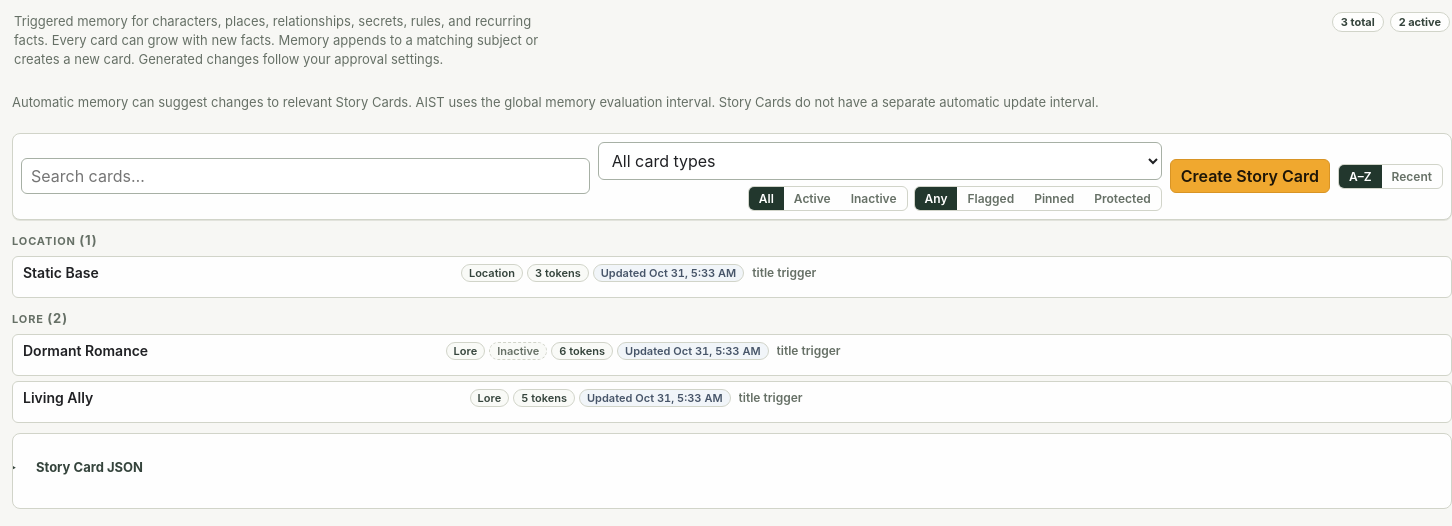
Test: side menu page smoke coverage › combines Story Card type, search, active status and living mode filters
Select "Lore" in the dropdown named "Filter by card type" at (880, 160), box left=598, top=142, right=1162, bottom=180
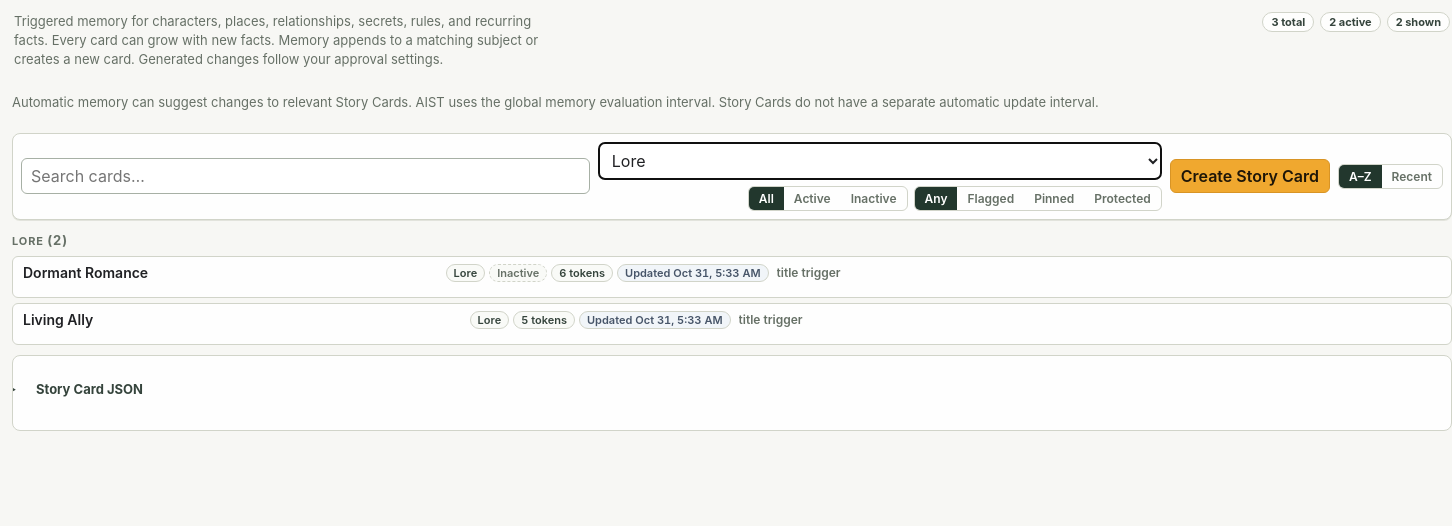
Expected: the number of elements with class "story-card-editor-item" is 2, left=12, top=256, right=1451, bottom=298; left=12, top=302, right=1451, bottom=344
Expected: the text "2 shown" is shown, left=1387, top=12, right=1450, bottom=32
Click the button "Active" at (812, 198), box left=784, top=186, right=841, bottom=210
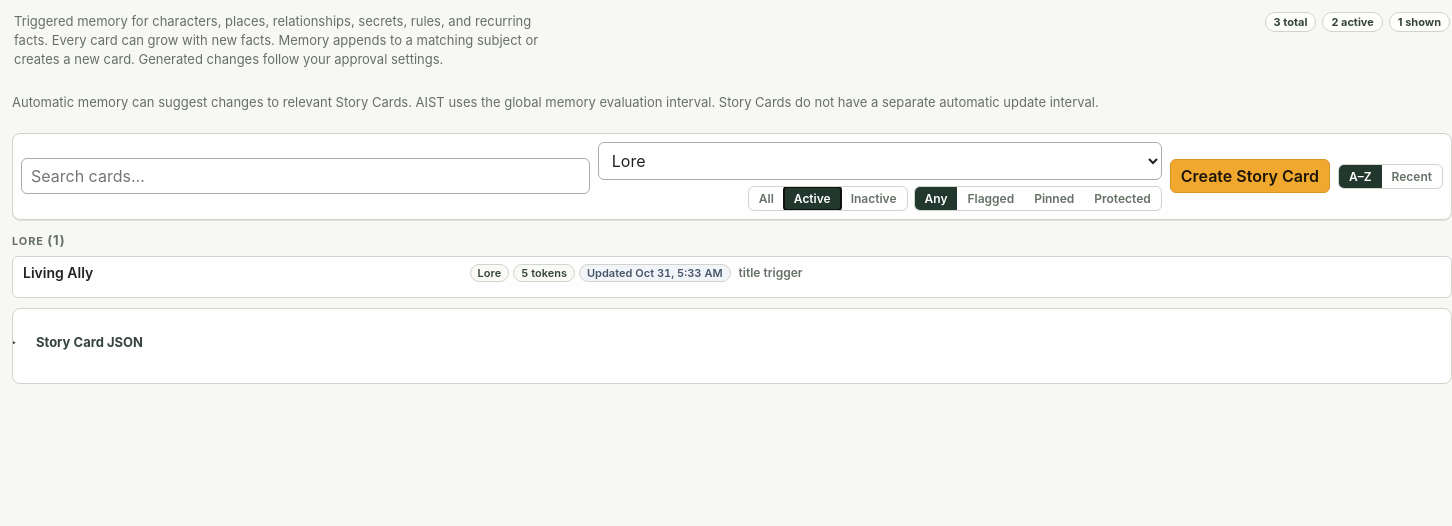
Expected: the element with class "story-card-editor-item" does not show "Static Base", left=12, top=256, right=1451, bottom=298
Expected: the number of elements with class "story-card-editor-item" is 1, left=12, top=256, right=1451, bottom=298
Expected: the element with class "story-card-editor-item" no longer shows "Dormant Romance", left=12, top=256, right=1451, bottom=298
Select "Character" in the dropdown named "Filter by card type" at (880, 160), box left=598, top=142, right=1162, bottom=180
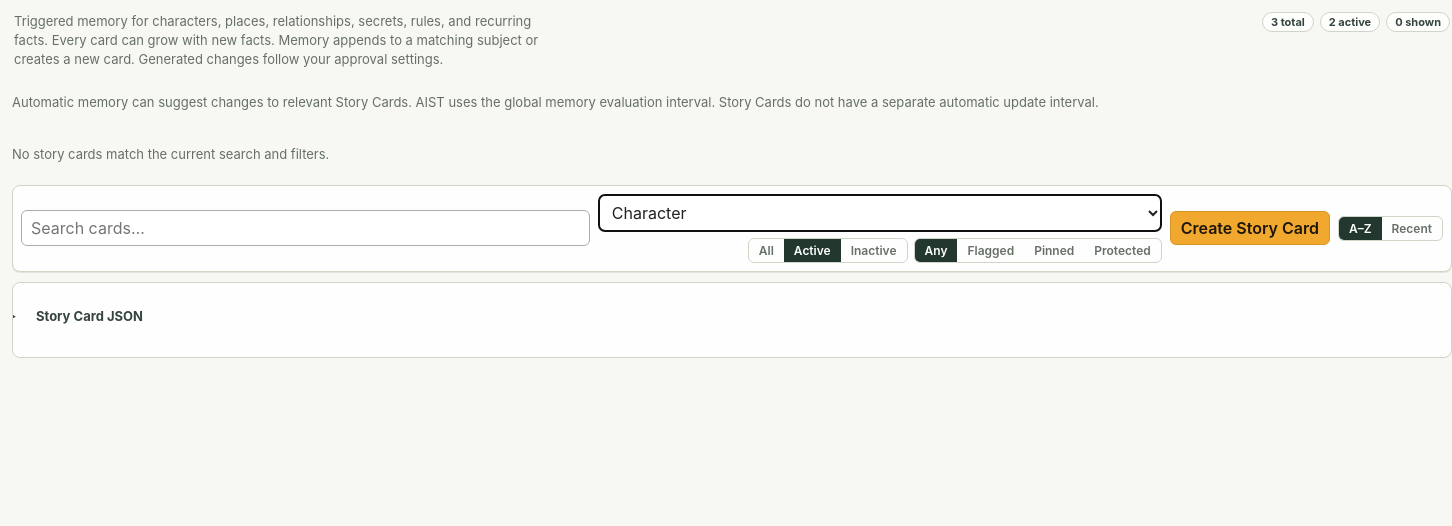
Expected: the text "No story cards match the current search and filters." is shown, left=12, top=146, right=329, bottom=162
Select "All card types" in the dropdown named "Filter by card type" at (880, 212), box left=598, top=194, right=1162, bottom=232
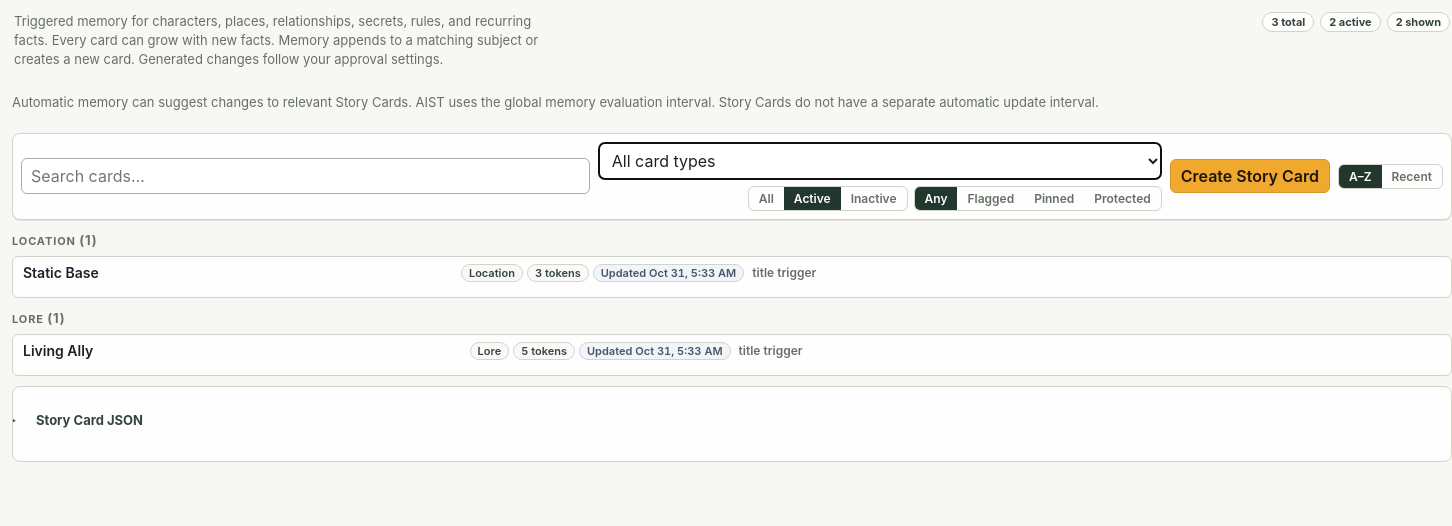
Expected: the number of elements with class "story-card-editor-item" is 2, left=12, top=256, right=1451, bottom=298; left=12, top=334, right=1451, bottom=376
Type "unmatched" into the search field with placeholder "Search cards…" at (305, 176), box left=21, top=158, right=590, bottom=194
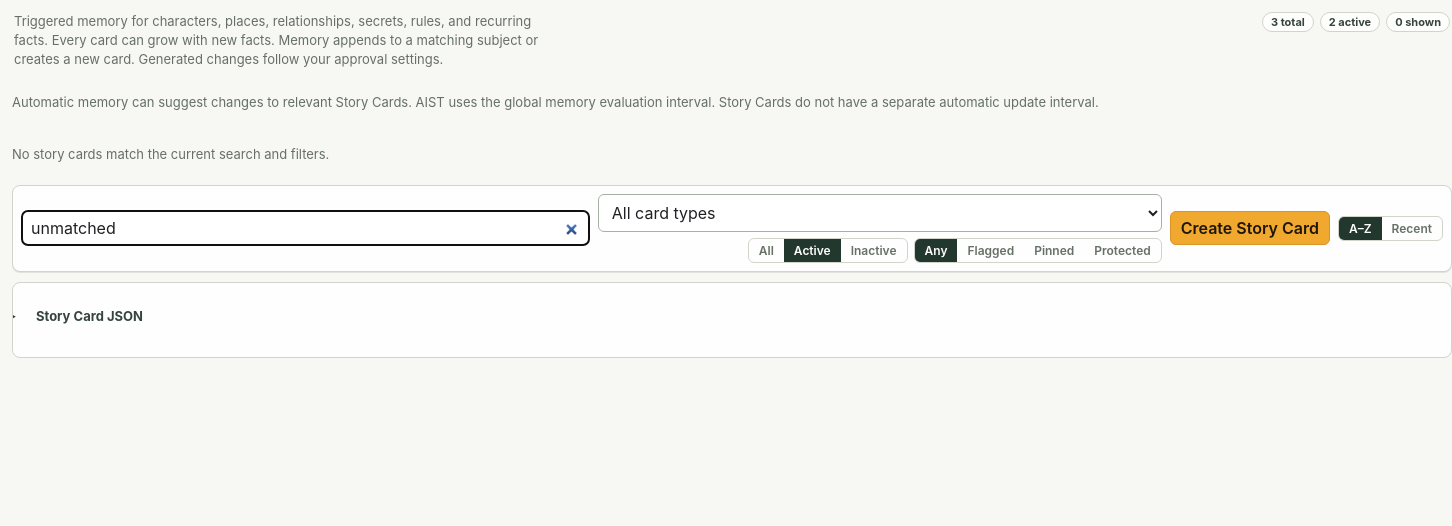
Expected: no elements with class "story-card-editor-item" are shown
Clear the search field with placeholder "Search cards…" at (305, 228), box left=21, top=210, right=590, bottom=246
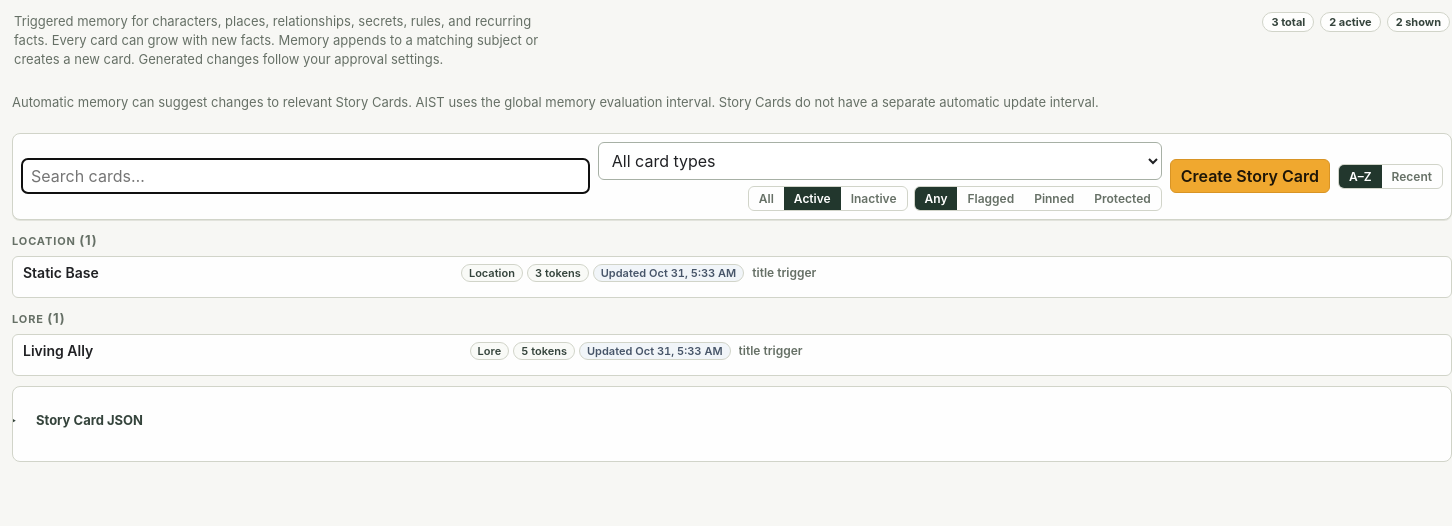
Expected: the number of elements with class "story-card-editor-item" is 2, left=12, top=256, right=1451, bottom=298; left=12, top=334, right=1451, bottom=376
